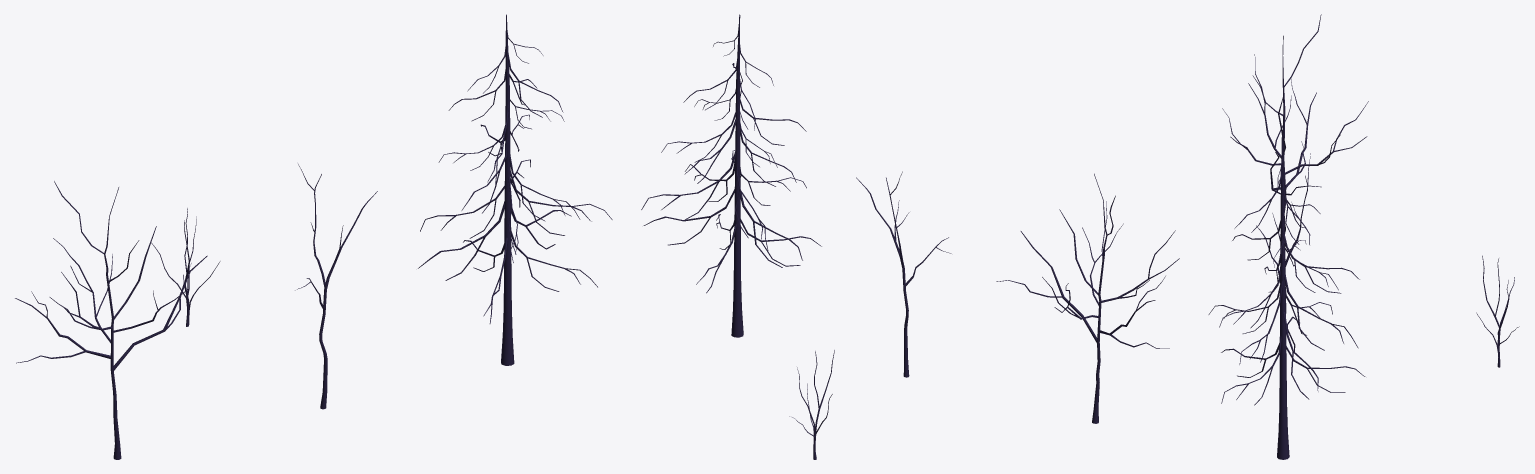
File: cmc_barrentrees_low.fbx
3 renders of one model, left to right at view 1: azimuth 30°, elevation 25°; view 2: azimuth 150°, elevation 25°; view 3: azimuth 270°, elevation 25°, orthographic. The views are drawn at different scales.
Parts seen in each view (by area): view 1: bare_pine_tree_LOD0, bare_maple_tree_LOD0, bare_aspen_tree_LOD0; view 2: bare_pine_tree_LOD0, bare_maple_tree_LOD0, bare_aspen_tree_LOD0, bare_seven_tree_LOD0; view 3: bare_pine_tree_LOD0, bare_maple_tree_LOD0, bare_seven_tree_LOD0, bare_aspen_tree_LOD0.
Boxes of the visible parts, x1,y1,x2,y2 form: bare_pine_tree_LOD0: [418, 14, 612, 365]; bare_maple_tree_LOD0: [15, 181, 207, 459]; bare_aspen_tree_LOD0: [295, 164, 377, 409]; bare_pine_tree_LOD0: [641, 14, 821, 337]; bare_maple_tree_LOD0: [996, 173, 1179, 423]; bare_aspen_tree_LOD0: [856, 171, 951, 377]; bare_seven_tree_LOD0: [789, 350, 834, 459]; bare_pine_tree_LOD0: [1208, 136, 1365, 459]; bare_maple_tree_LOD0: [1222, 14, 1368, 283]; bare_seven_tree_LOD0: [1476, 255, 1519, 367]; bare_aspen_tree_LOD0: [1256, 153, 1310, 313].
Bounding box in the file's own units: 36.05 × 21.3 × 18.8.
